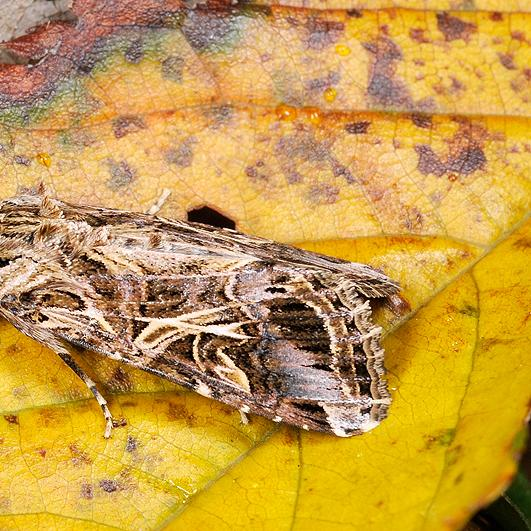Spodoptera litura: (1, 182, 407, 438)
